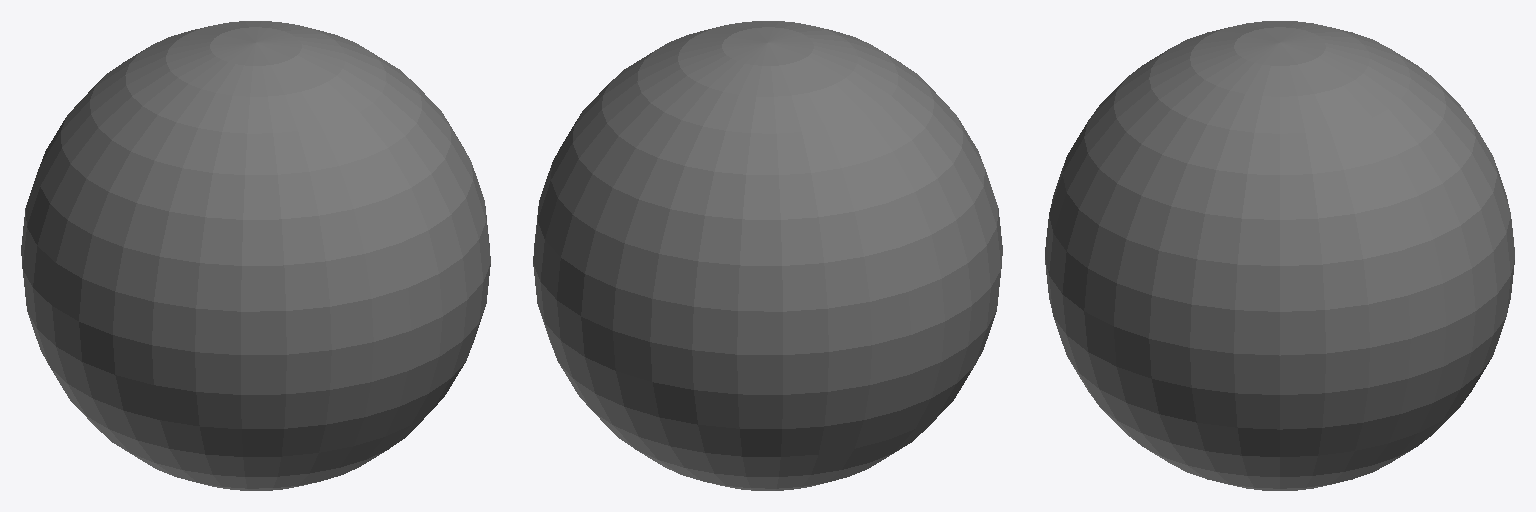
File: ball.obj
The picture shows the model from 3 angles: view 1: azimuth 30°, elevation 25°; view 2: azimuth 150°, elevation 25°; view 3: azimuth 270°, elevation 25°; orthographic projection.
Visible parts, largest first — view 1: Sphere; view 2: Sphere; view 3: Sphere.
Part boxes in pixels (x1,y1,x2,y2): Sphere: (21, 21, 490, 490); Sphere: (533, 21, 1002, 490); Sphere: (1045, 21, 1514, 490).
Bounding box in the file's own units: 0.3711 × 0.3711 × 0.3711.